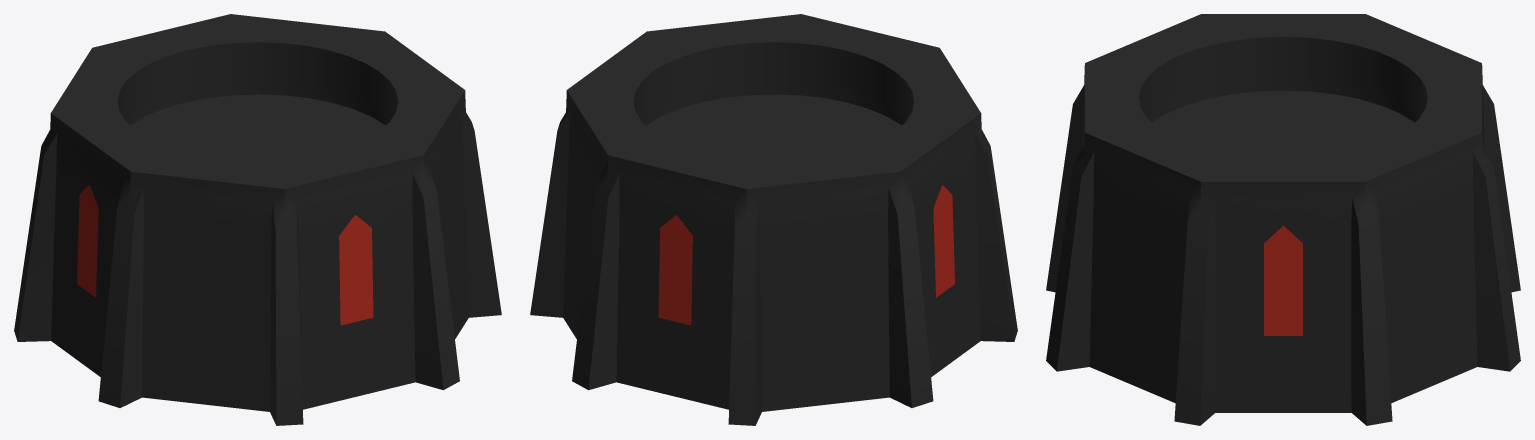
File: turm_segment.glb
3 renders of one model, left to right at view 1: azimuth 30°, elevation 25°; view 2: azimuth 150°, elevation 25°; view 3: azimuth 270°, elevation 25°, orthographic. The views are drawn at different scales.
Visible parts, largest first — view 1: turm_segment; view 2: turm_segment; view 3: turm_segment.
Boxes of the visible parts, x1=… form: turm_segment: x1=14, y1=14, x2=501, y2=425; turm_segment: x1=530, y1=14, x2=1017, y2=425; turm_segment: x1=1046, y1=14, x2=1520, y2=425.
Bounding box in the file's own units: 17.01 × 9 × 17.01.
